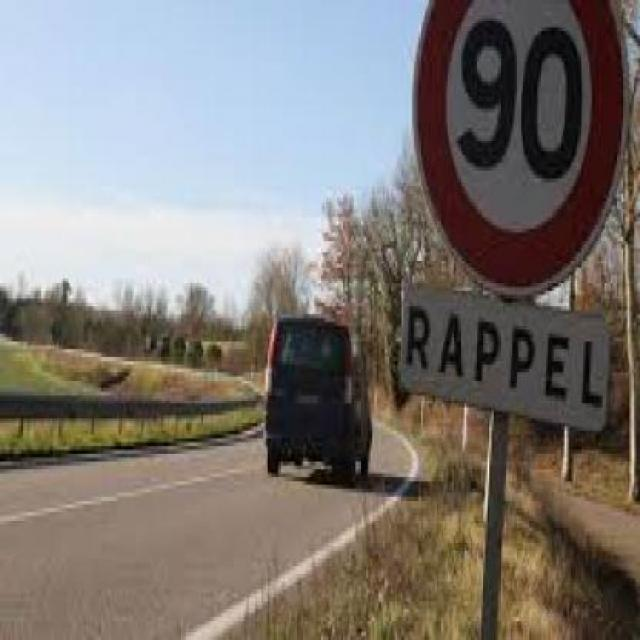Ograniczenie predkosci do 90: (419, 0, 628, 290)
